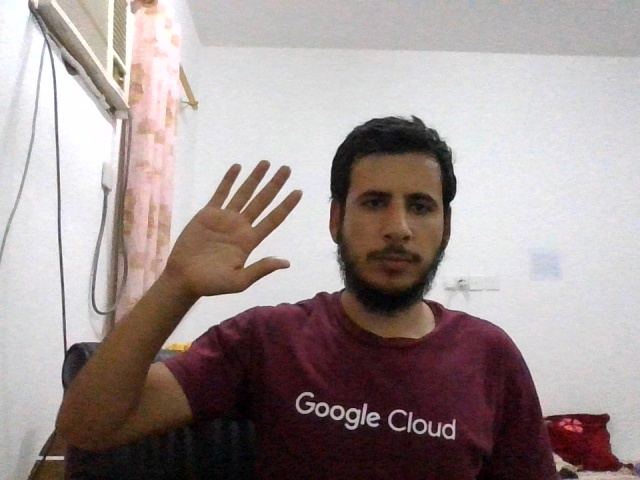Five: (169, 161, 303, 295)
